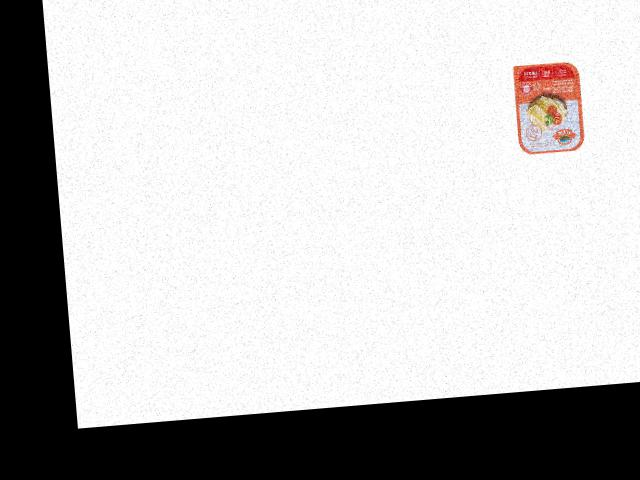cheese: (510, 55, 590, 157)
